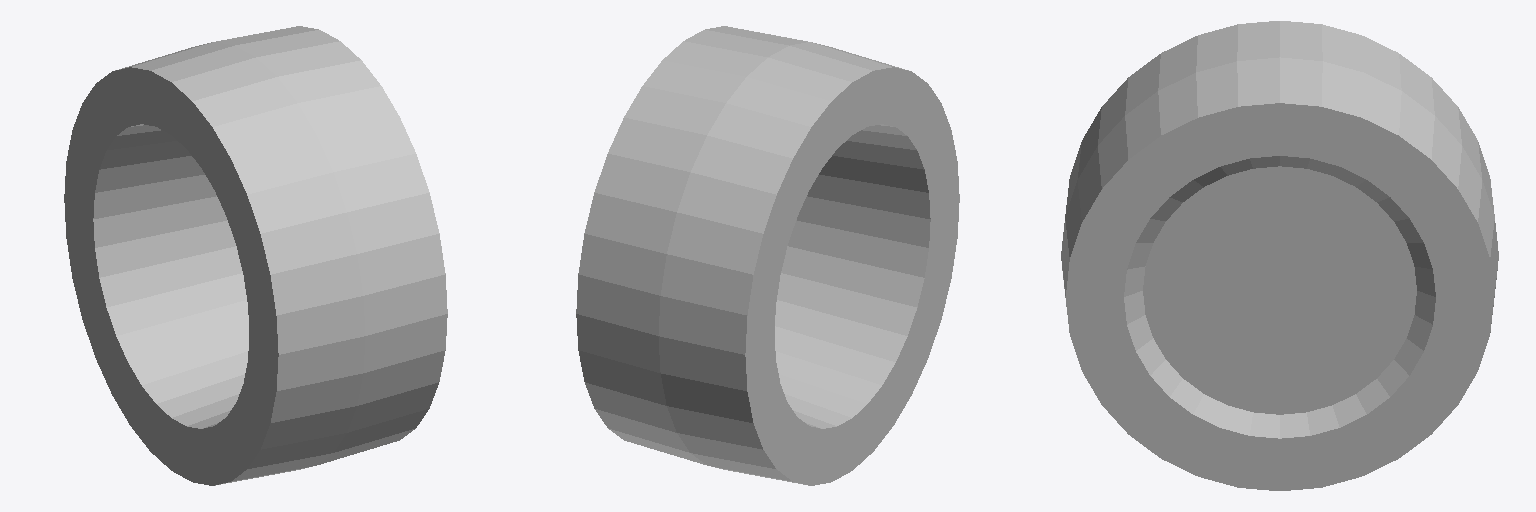
The model's file is car_tires_front_left.obj.
3 views of the same model, side by side, from view 1: azimuth 30°, elevation 25°; view 2: azimuth 150°, elevation 25°; view 3: azimuth 270°, elevation 25° (orthographic).
Bounding box in the file's own units: 0.2945 × 0.6606 × 0.6606.